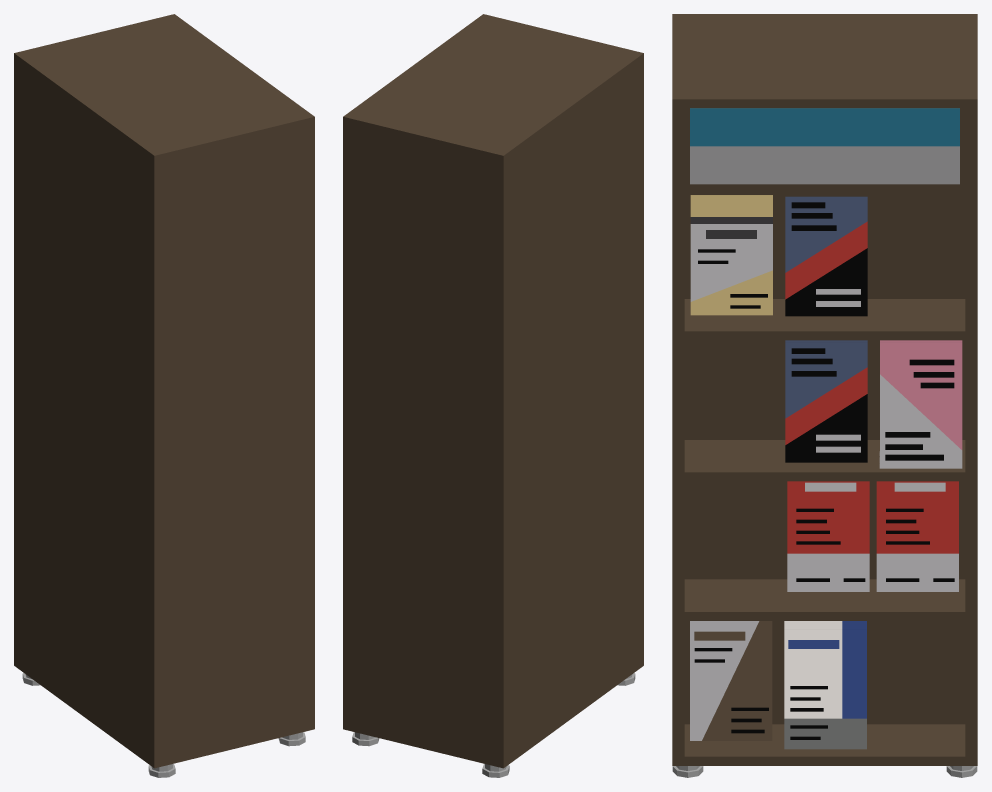
File: SM_shopShelf_02.glb
The picture shows the model from 3 angles, left to right: view 1: azimuth 30°, elevation 25°; view 2: azimuth 150°, elevation 25°; view 3: azimuth 270°, elevation 25°; orthographic projection. The views are drawn at different scales.
Parts seen in each view (by area): view 1: SM_shopShelf_02; view 2: SM_shopShelf_02; view 3: SM_shopShelf_02.
Boxes of the visible parts, x1=… form: SM_shopShelf_02: x1=14, y1=14, x2=314, y2=777; SM_shopShelf_02: x1=343, y1=14, x2=643, y2=777; SM_shopShelf_02: x1=672, y1=14, x2=977, y2=777.
Bounding box in the file's own units: 0.6642 × 2.46 × 1.
1 material, 1 textured.
